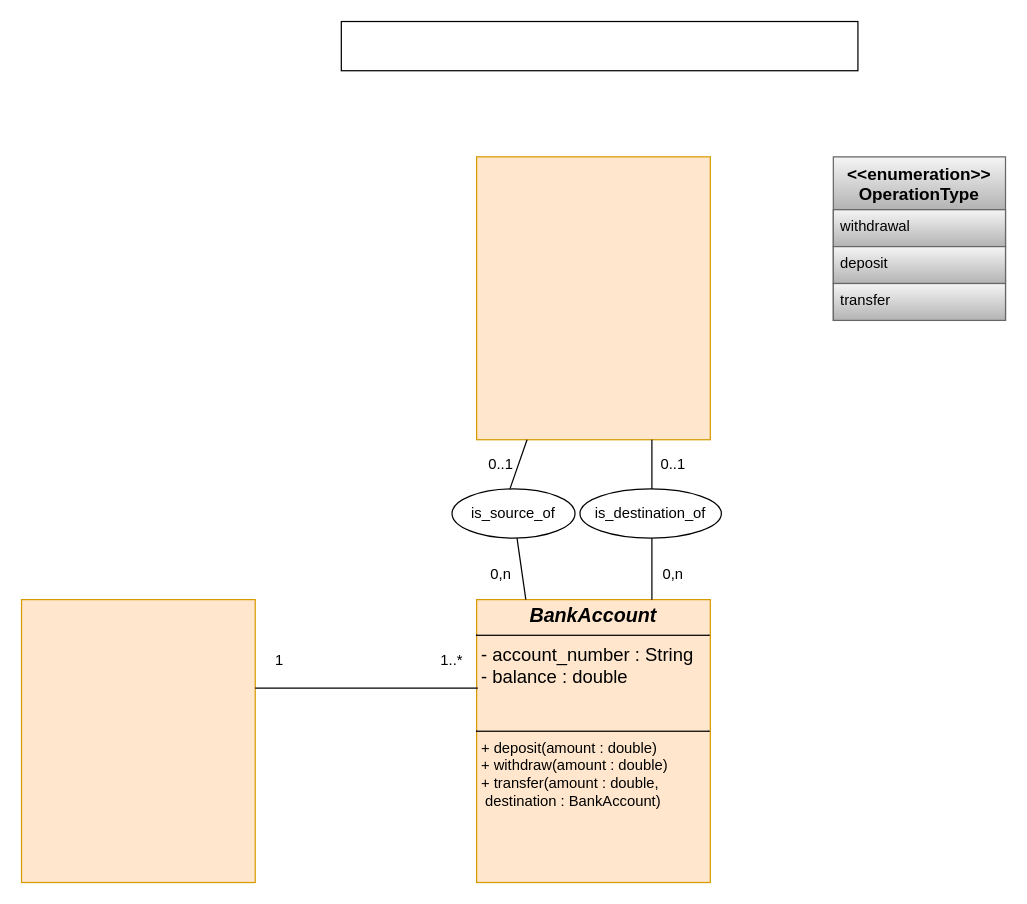
This 1027x904 diagram has some shape labels left out. Here are the shapes that lost their labels. From the top down, the box of each, then its label:
(340, 20, 858, 71): Diagramme de classe
(475, 156, 710, 440): Operation - id_operation : int - type : String - amount : double - date : Date
(20, 598, 255, 883): Person - id_person : int - first_name : String - last_name : String
